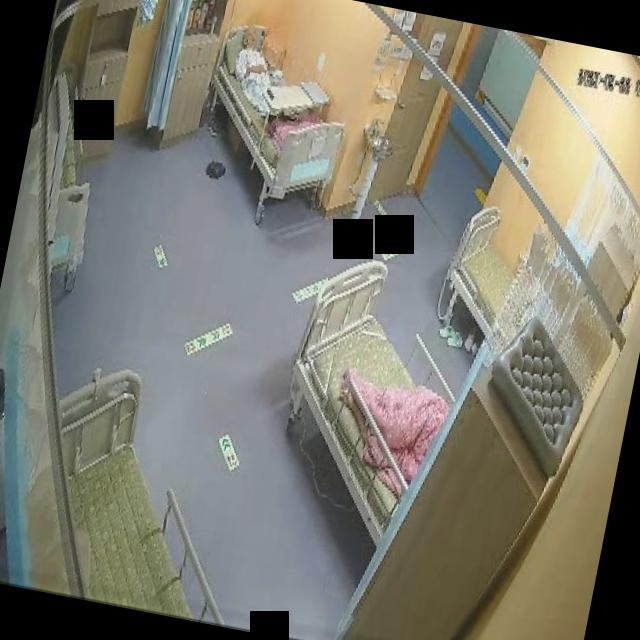bed: (22, 361, 266, 627), (262, 250, 469, 550), (188, 18, 362, 210), (439, 200, 526, 342)
lie: (226, 22, 284, 113)
patient: (226, 24, 282, 114)
